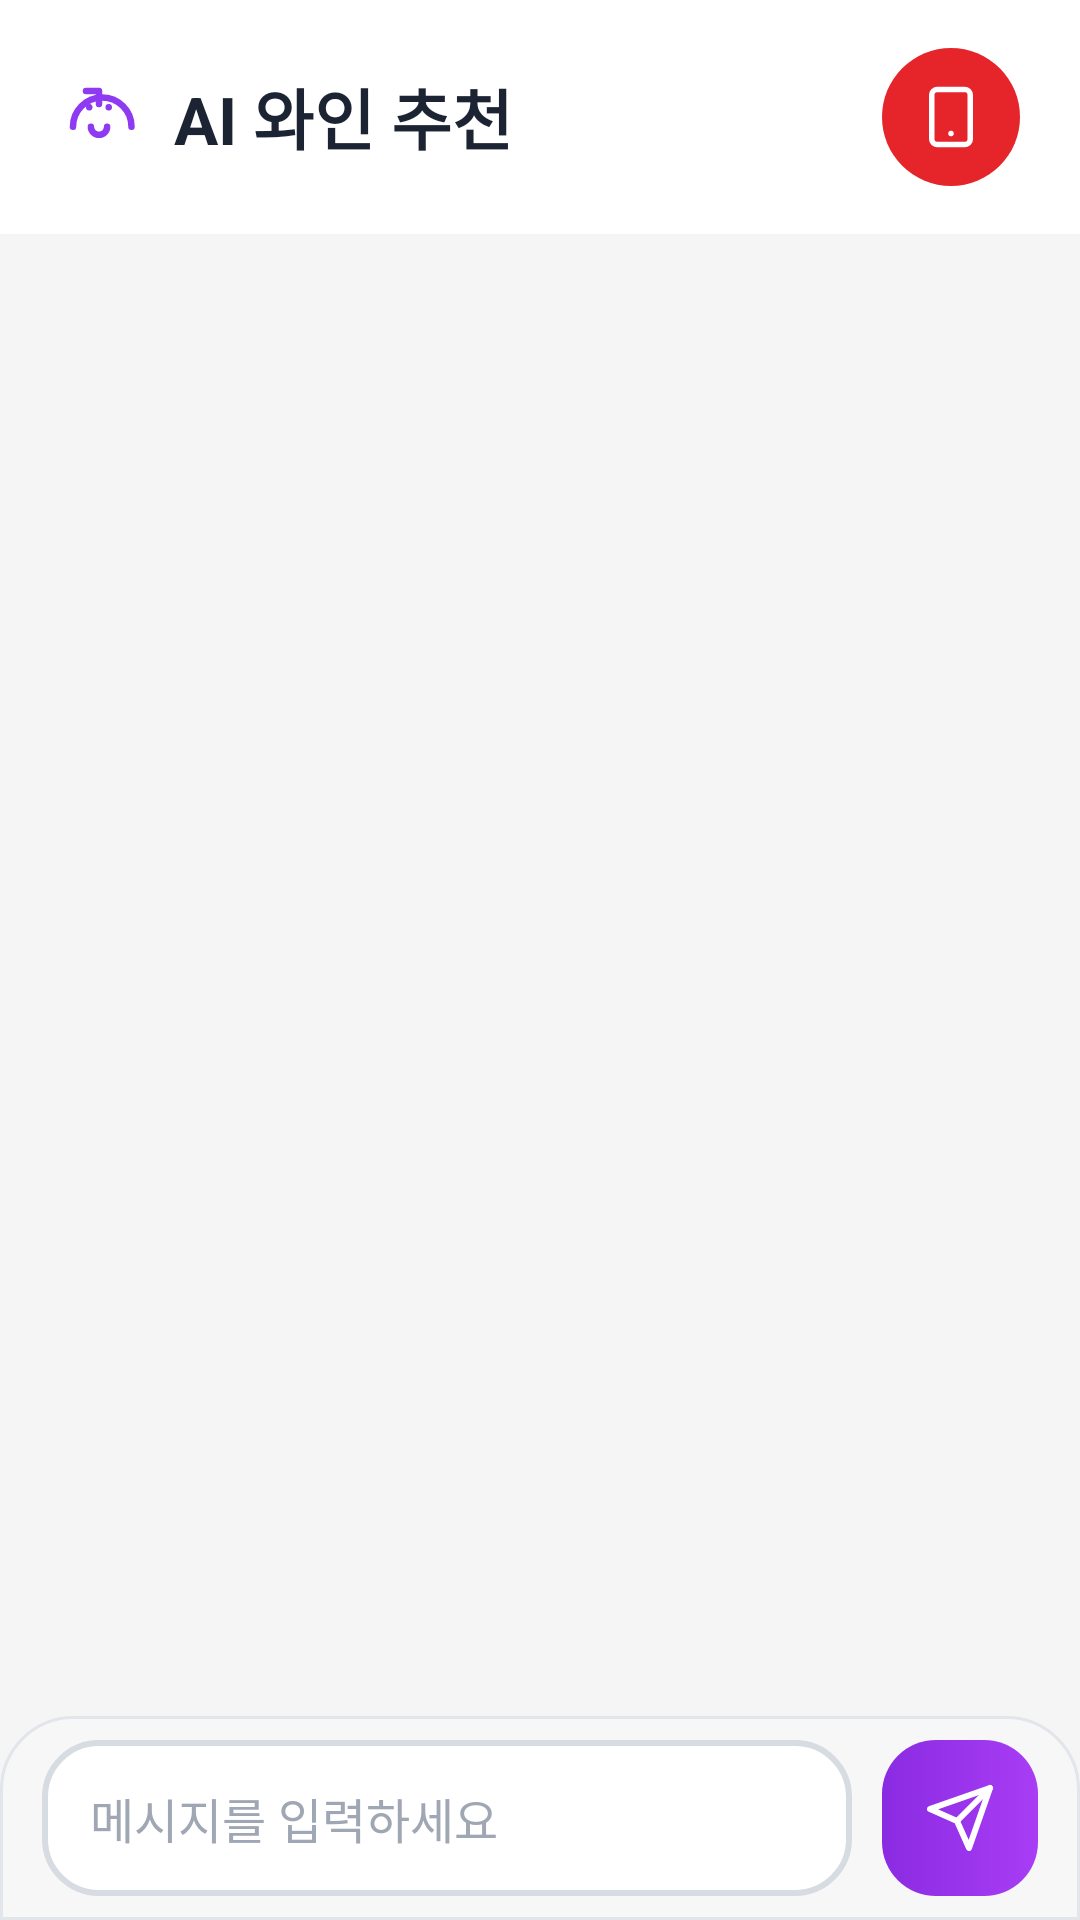

Screen size 1080 × 1920. Icon name, then its box in pixels as (x1, y1, x2, y2):
bot: (69, 87, 135, 138)
send: (882, 1740, 1038, 1896)
smartphone: (882, 48, 1020, 186)
